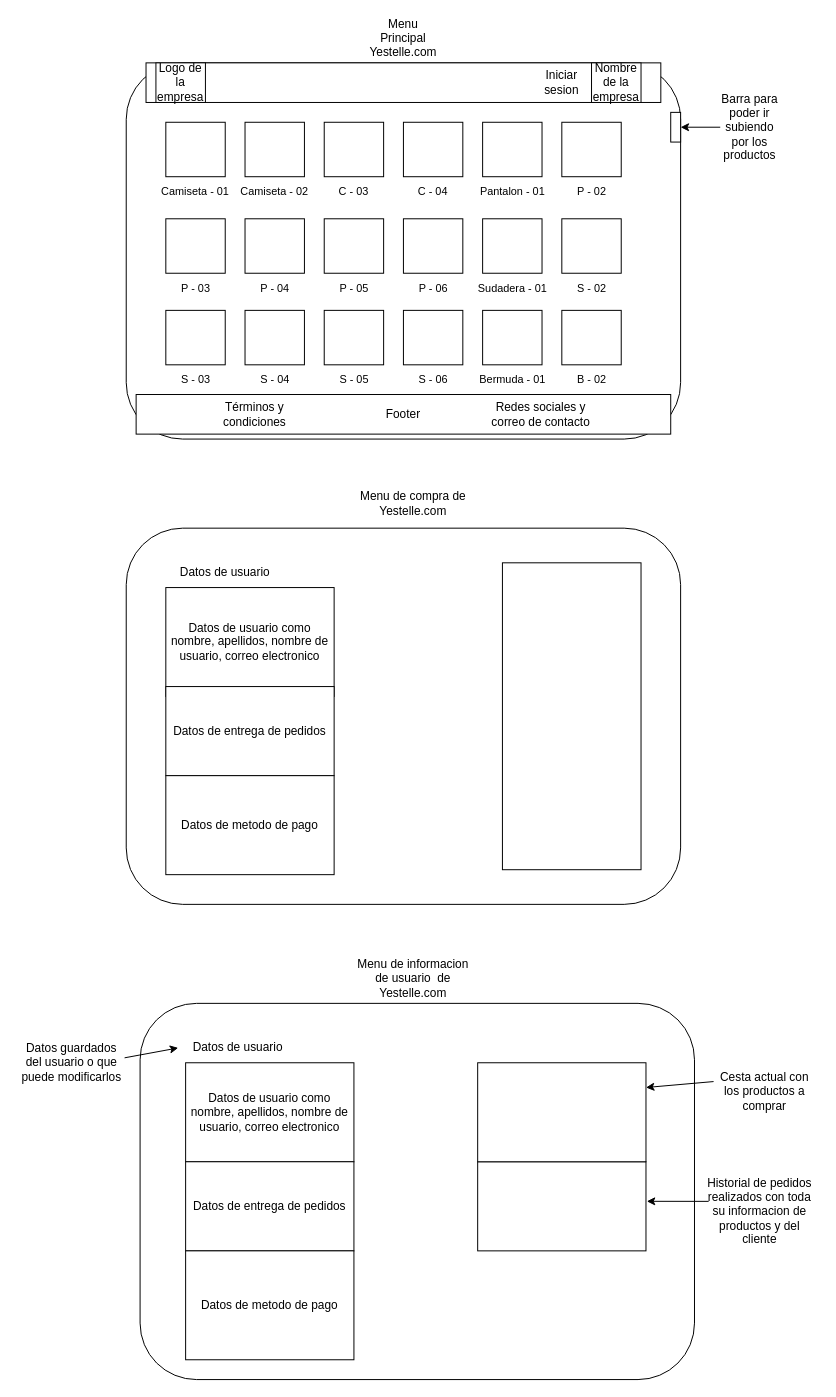
The diagram is 836 pixels wide and 1397 high, and some of its shapes have lost their labels. Each missing label, with the box of its shape:
Carrito de compra: (501, 562, 641, 870)
Header: (145, 62, 661, 102)
Historial Pedidos realizados: (477, 1161, 646, 1251)
Mi cesta actual: (477, 1062, 646, 1162)
